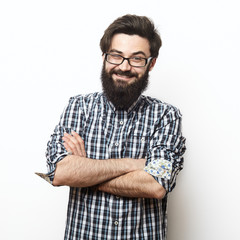young: (98, 14, 155, 102)
